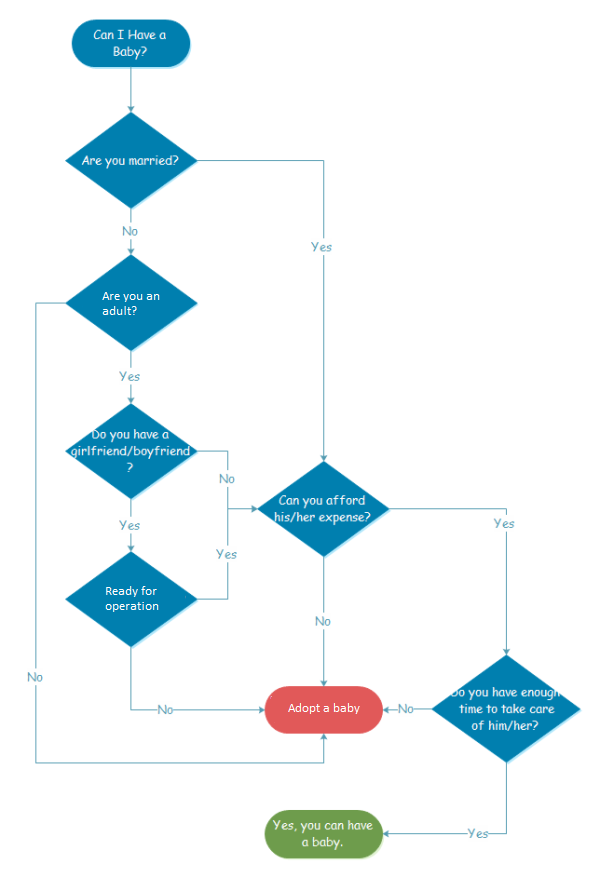arrow: (28, 298, 333, 768), (191, 154, 340, 464), (380, 501, 515, 657), (383, 756, 513, 840), (125, 644, 267, 717), (187, 505, 263, 604), (195, 446, 259, 514), (313, 546, 332, 693), (121, 61, 141, 116), (123, 496, 137, 554), (124, 200, 137, 258), (125, 346, 136, 406), (380, 702, 432, 714)
decision: (425, 652, 583, 765), (59, 546, 199, 654), (248, 460, 396, 562), (60, 398, 205, 500), (64, 250, 203, 352), (61, 112, 200, 210)
terminator: (67, 17, 197, 72), (261, 810, 388, 862), (263, 684, 381, 736)
text: (69, 425, 197, 474), (449, 686, 567, 734), (269, 816, 377, 850), (272, 492, 372, 526), (89, 25, 169, 60), (100, 582, 160, 616), (80, 153, 184, 172), (99, 288, 164, 314), (283, 700, 361, 717), (308, 237, 336, 256), (463, 826, 492, 844), (491, 512, 517, 532), (120, 218, 147, 237), (389, 701, 420, 717), (211, 469, 243, 484), (116, 368, 144, 385), (312, 608, 333, 629), (115, 517, 141, 533), (212, 546, 239, 561), (24, 669, 49, 684), (155, 702, 172, 718)
